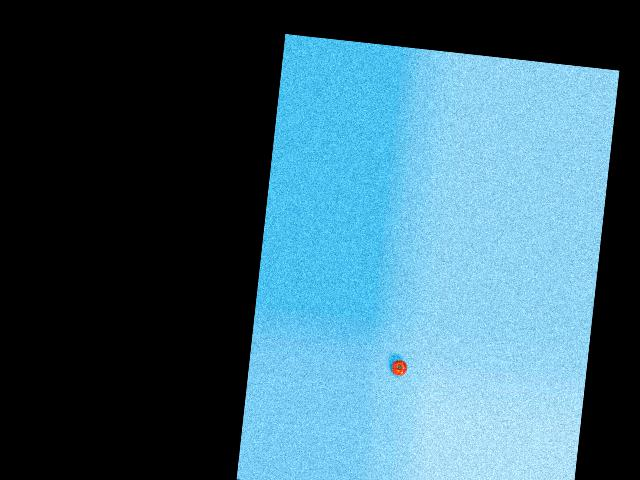tomato: (390, 358, 407, 376)
